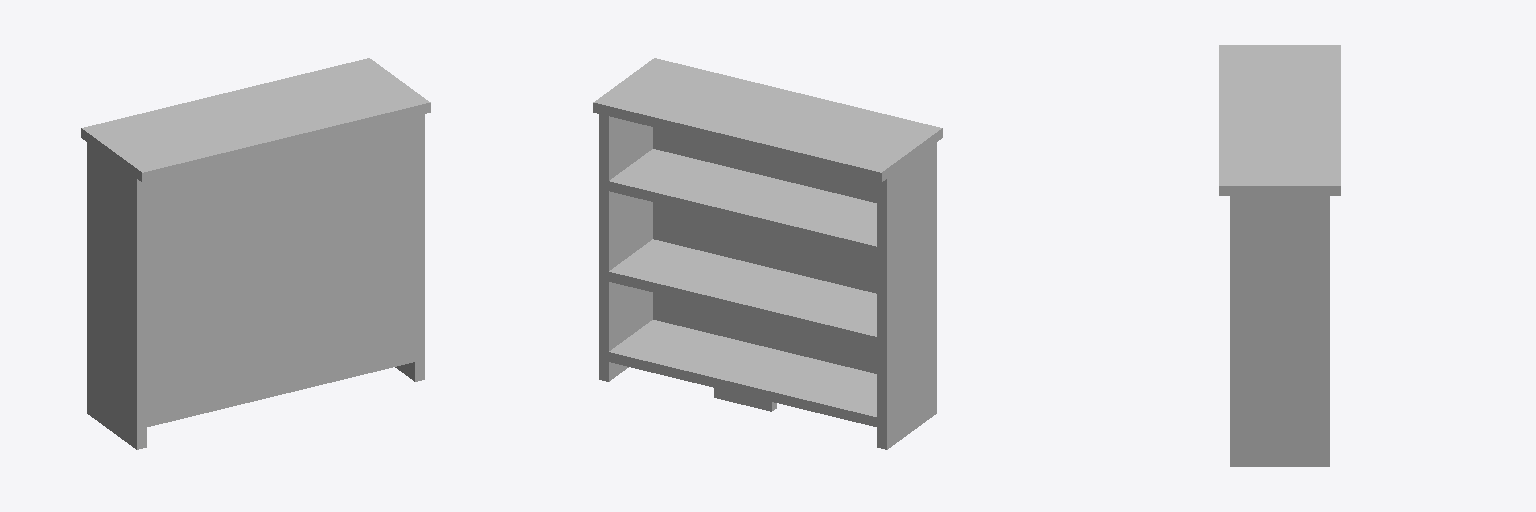
The model's file is empty library.obj.
The picture shows the model from 3 angles: view 1: azimuth 30°, elevation 25°; view 2: azimuth 150°, elevation 25°; view 3: azimuth 270°, elevation 25°; orthographic projection.
Visible parts, largest first — view 1: cube; view 2: cube; view 3: cube.
Boxes of the visible parts, x1,y1,x2,y2 form: cube: [81, 58, 430, 449]; cube: [593, 58, 942, 449]; cube: [1219, 45, 1340, 466].
Size of the model in its own units: 1.88 by 1.75 by 0.6875.